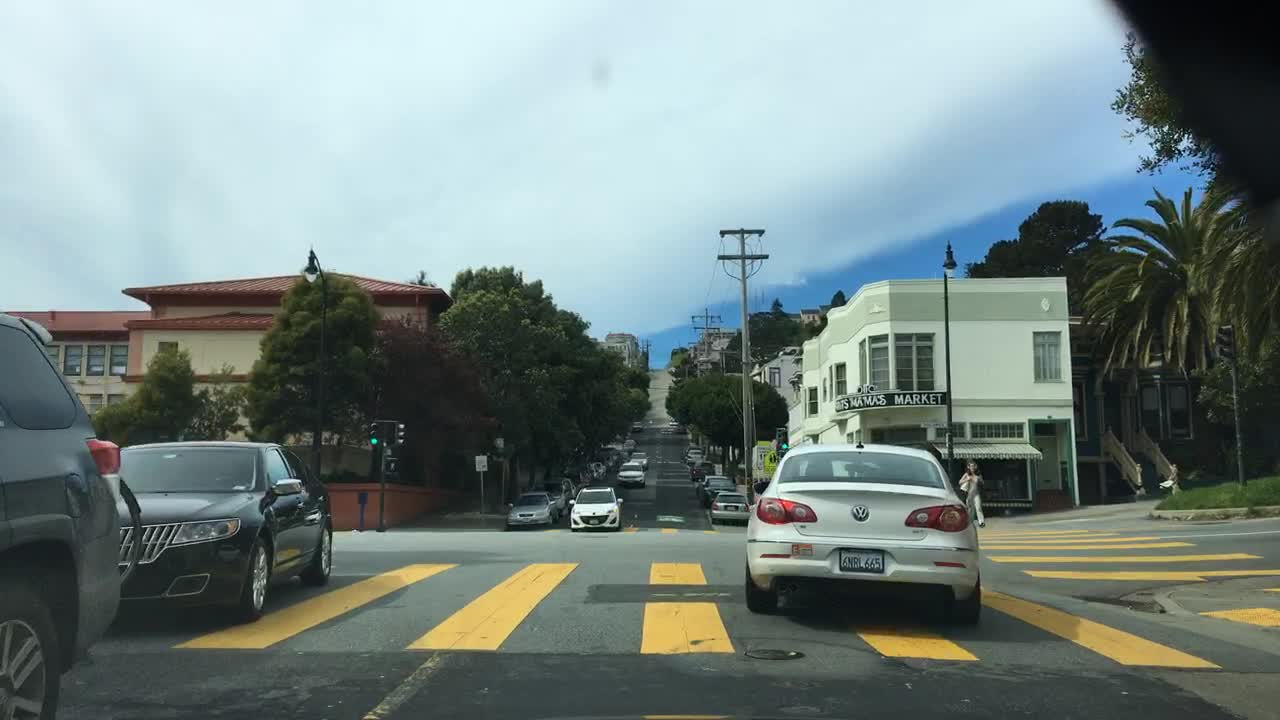car: (0, 311, 125, 718), (743, 443, 986, 632), (106, 439, 337, 626), (572, 484, 622, 534), (505, 489, 559, 528), (695, 472, 737, 505), (709, 493, 751, 525), (616, 461, 647, 492), (540, 475, 576, 499), (567, 467, 590, 491), (595, 451, 618, 471), (689, 462, 713, 480), (586, 462, 608, 480), (550, 491, 565, 514), (603, 444, 620, 464), (629, 452, 647, 467), (684, 449, 701, 463), (680, 440, 698, 453), (670, 421, 685, 433), (625, 439, 637, 452), (634, 420, 643, 434)
person: (957, 458, 986, 527)
traffic light: (367, 420, 381, 449), (777, 427, 788, 454), (384, 458, 400, 475), (397, 421, 406, 449)
traffic sign: (1217, 320, 1237, 365), (755, 439, 772, 469), (764, 451, 778, 474), (476, 453, 487, 472), (492, 434, 503, 449)
